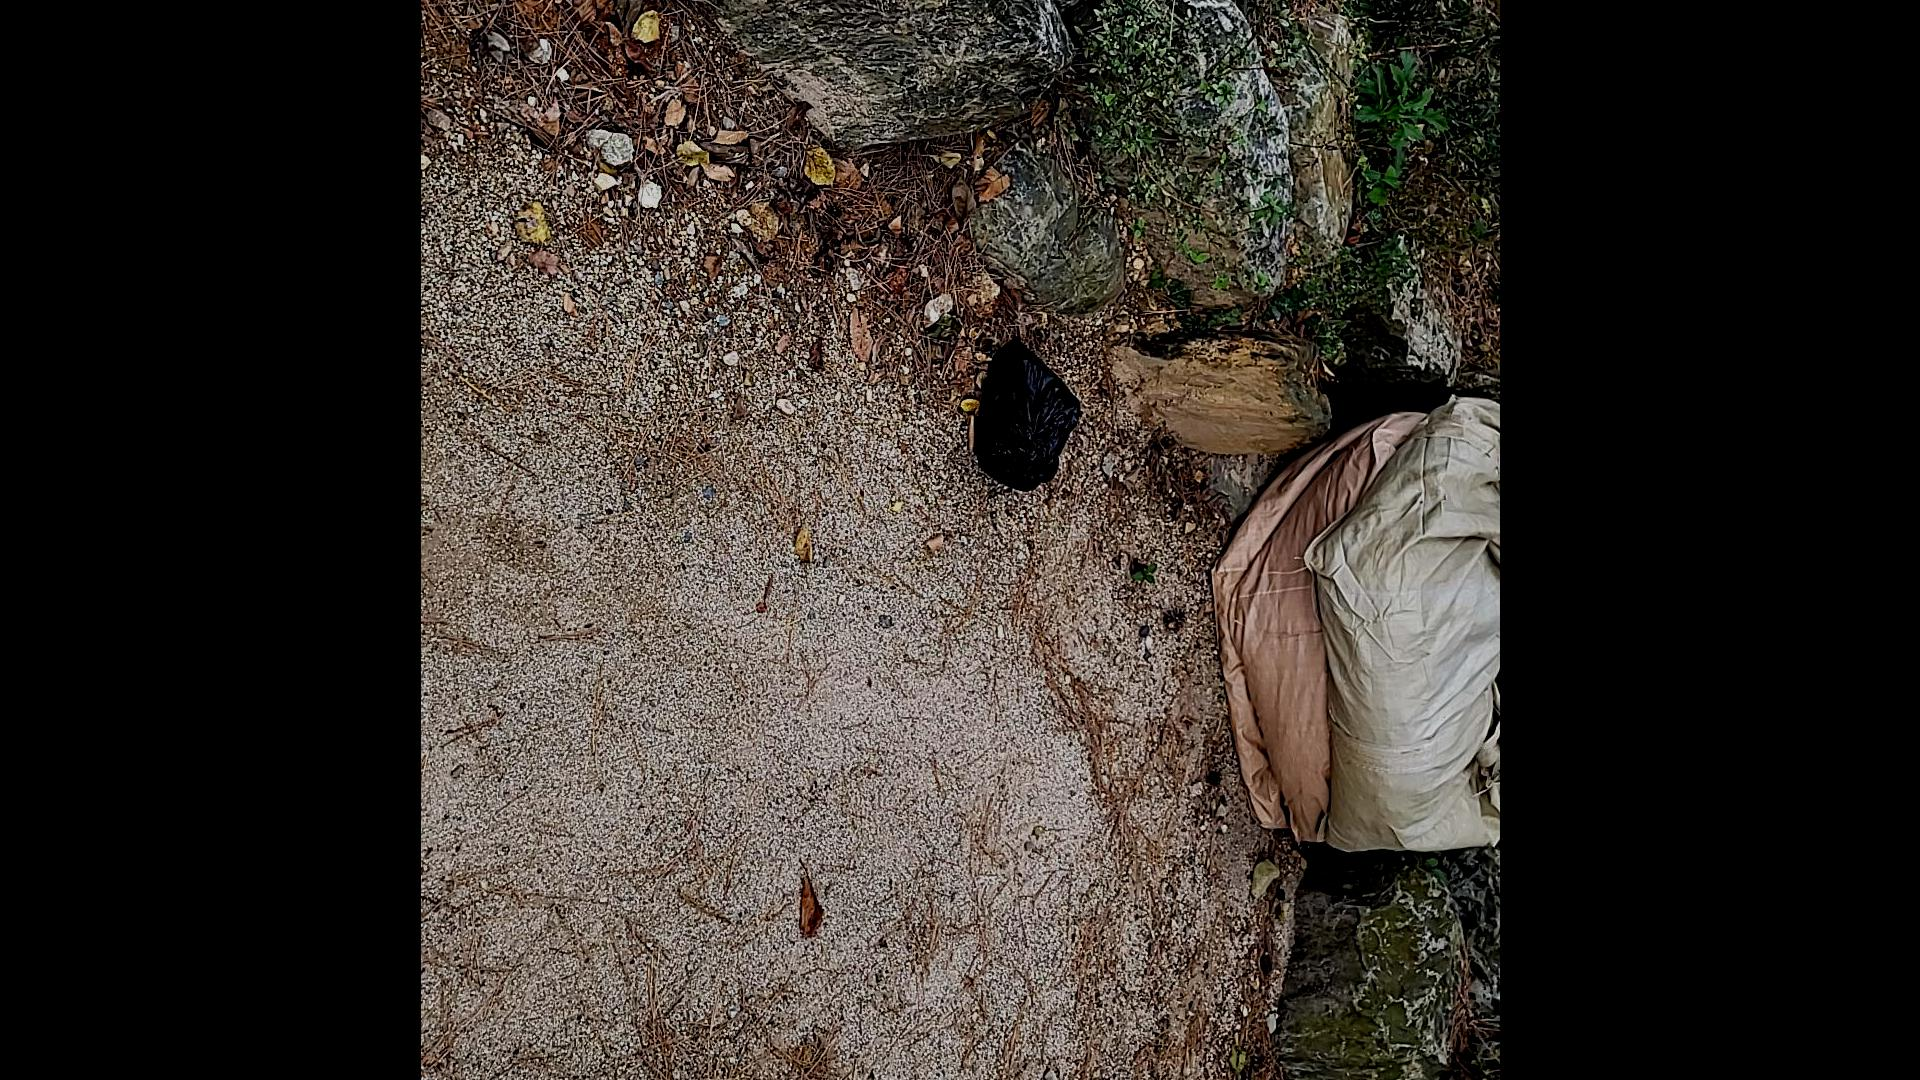black_bag: (964, 331, 1086, 498)
